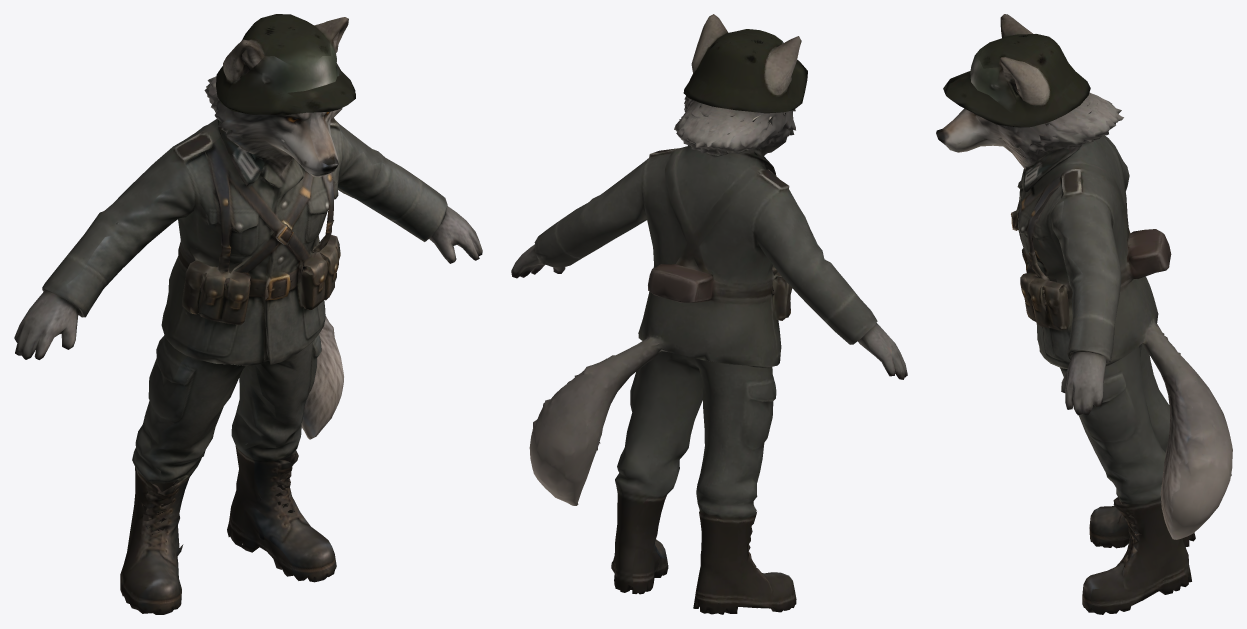
File: wolf-gi-v1_20k.glb
The picture shows the model from 3 angles, left to right: view 1: azimuth 30°, elevation 25°; view 2: azimuth 150°, elevation 25°; view 3: azimuth 270°, elevation 25°; orthographic projection. The views are drawn at different scales.
Visible parts, largest first — view 1: Mesh_0.001; view 2: Mesh_0.001; view 3: Mesh_0.001.
Part boxes in pixels (x1,y1,x2,y2): Mesh_0.001: (14, 14, 482, 614); Mesh_0.001: (511, 14, 907, 614); Mesh_0.001: (936, 14, 1232, 614).
Bounding box in the file's own units: 0.6993 × 0.8844 × 0.4396.
1 material, 1 textured.
